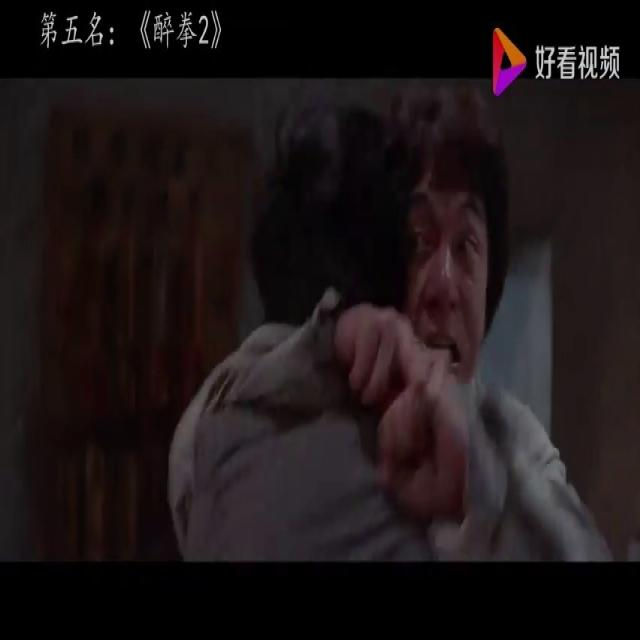fight: (158, 101, 622, 565)
